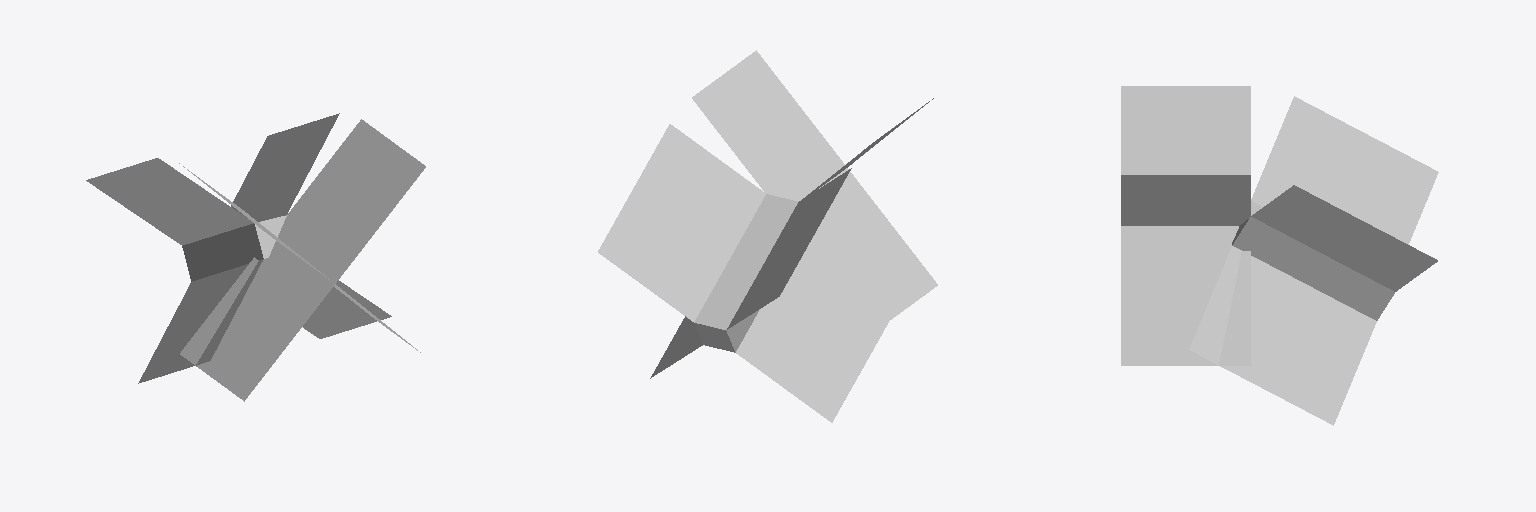
The model's file is torch_wall.obj.
3 renders of one model, left to right at view 1: azimuth 30°, elevation 25°; view 2: azimuth 150°, elevation 25°; view 3: azimuth 270°, elevation 25°, orthographic.
Size of the model in its own units: 0.7071 by 0.9304 by 1.07.